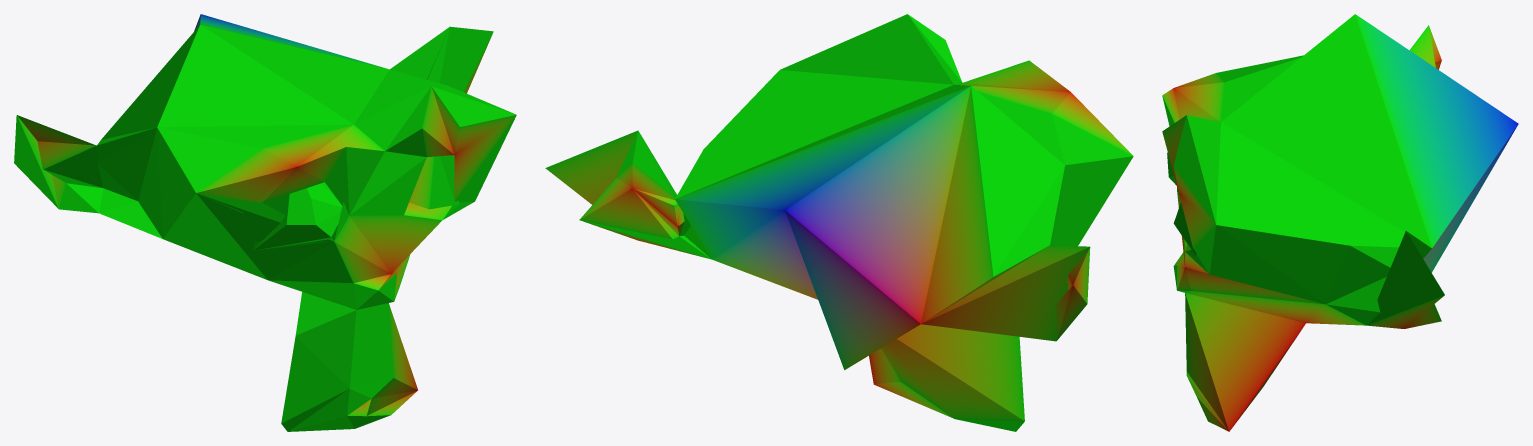
File: after_cleaning_reconquest_1.obj
3 views of the same model, side by side, from view 1: azimuth 30°, elevation 25°; view 2: azimuth 150°, elevation 25°; view 3: azimuth 270°, elevation 25° (orthographic). The views are drawn at different scales.
Size of the model in its own units: 2.6 by 1.91 by 1.7.
